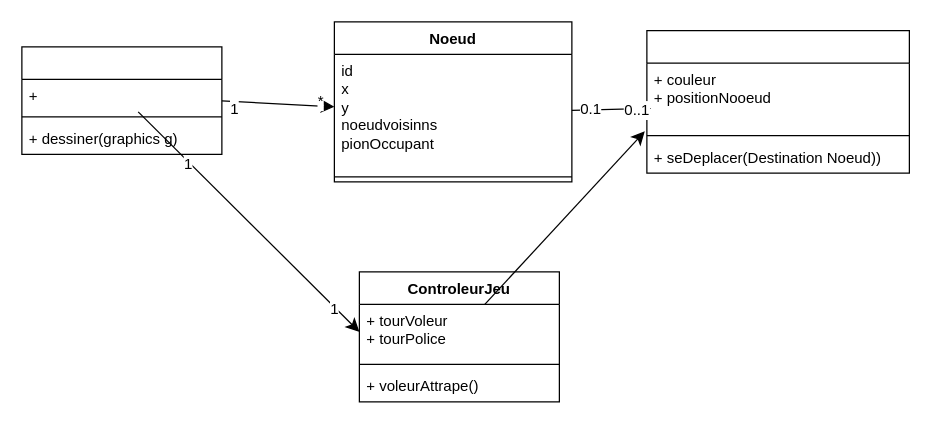
Some shapes in this 931 by 428 pixel diagram are drawn without their labels. The box of each missing label's shape, as (x1, y1, x2, y2) in pixels:
Pion: (646, 29, 909, 173)
Plateau: (21, 46, 222, 154)
